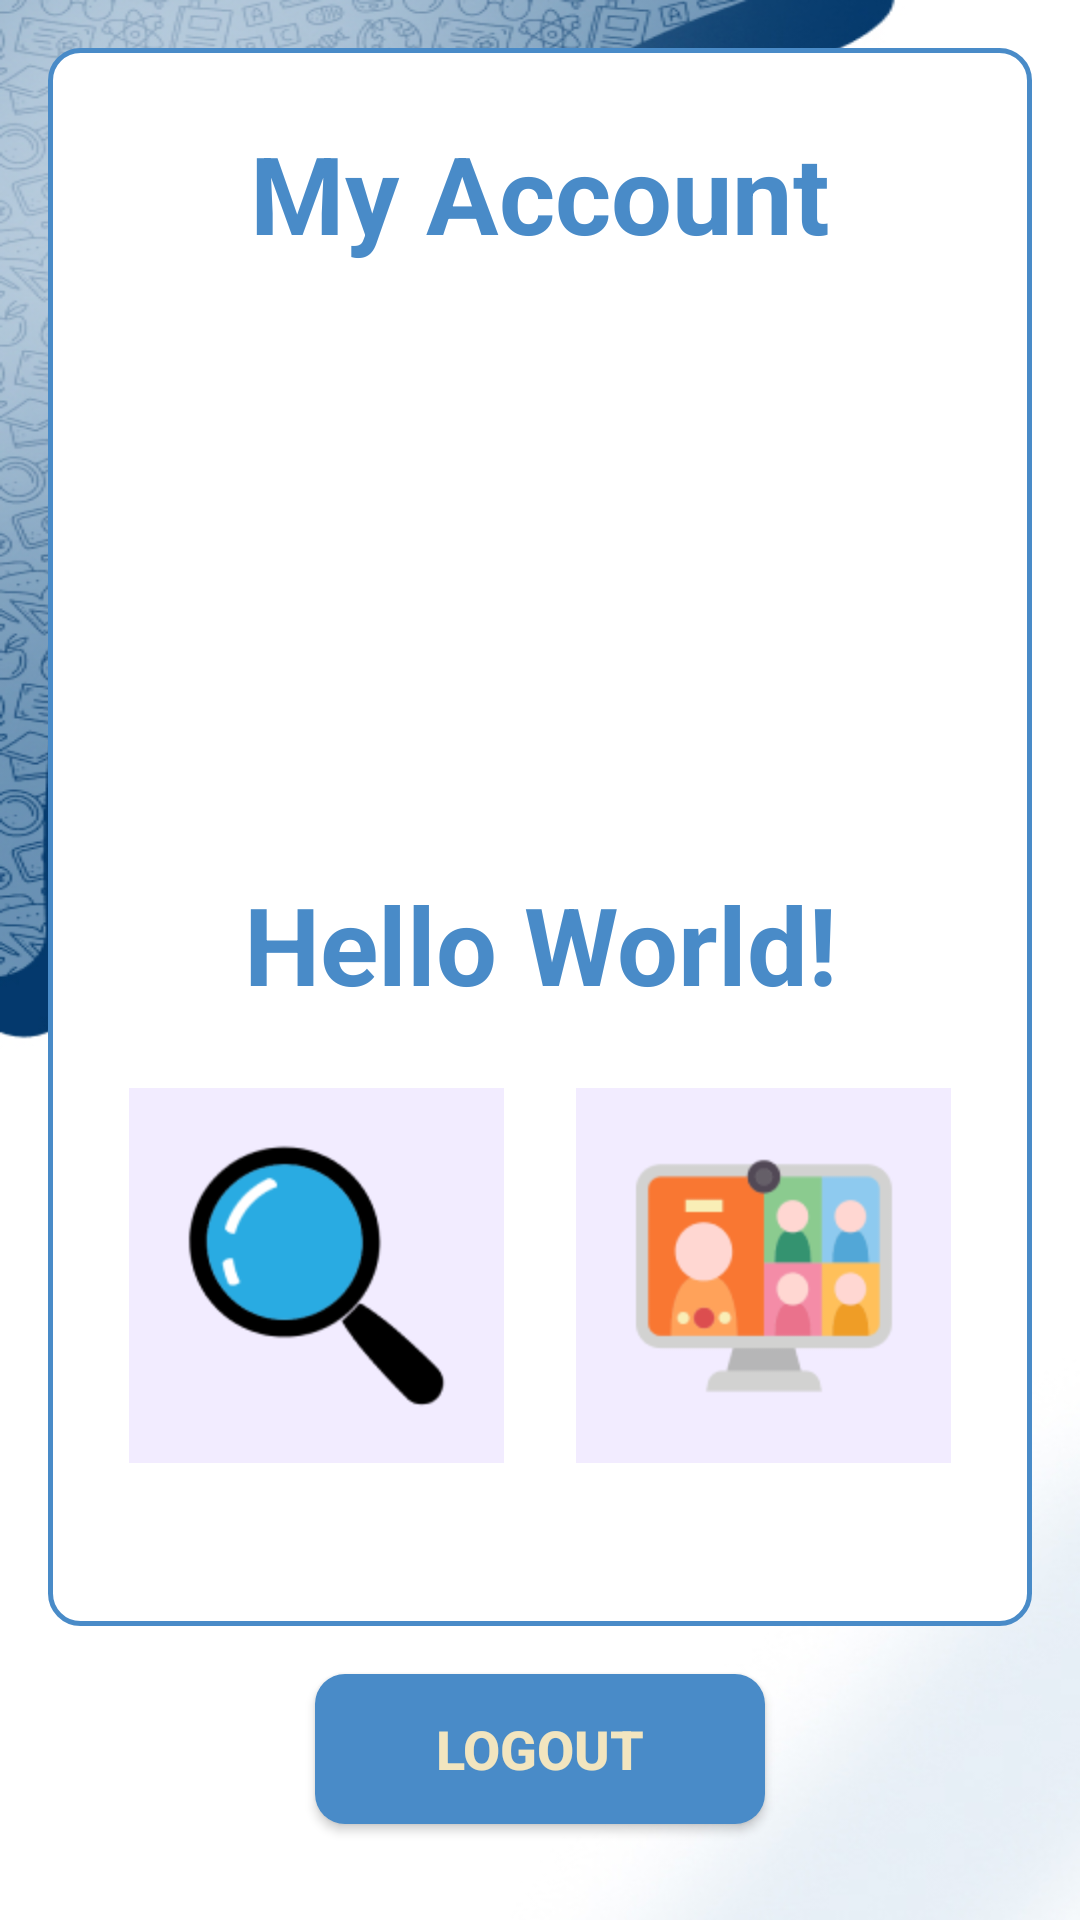

Icons on this 1080 × 1920 Android screen, each with the point to tap as (x,y):
meetings: (764,1275)
search: (317,1276)
